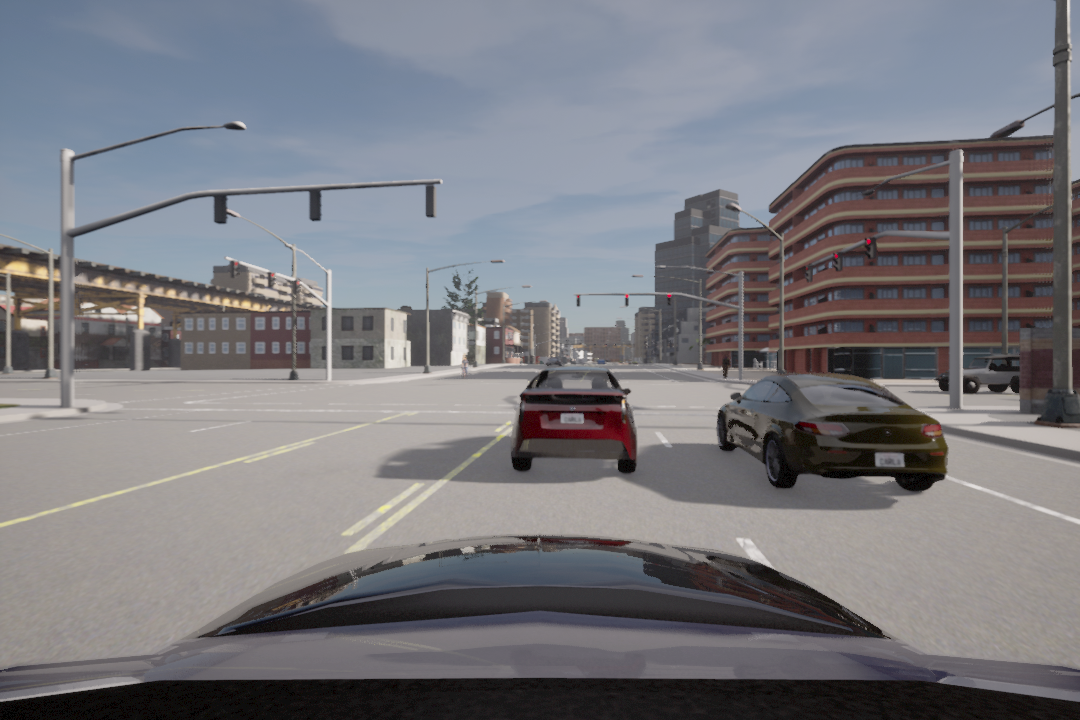TrafficLight: (861, 234, 881, 263), (827, 247, 841, 274), (227, 255, 241, 279), (264, 269, 278, 289), (803, 264, 815, 284), (292, 278, 302, 295), (624, 293, 632, 307), (574, 295, 583, 307), (666, 291, 673, 306)
